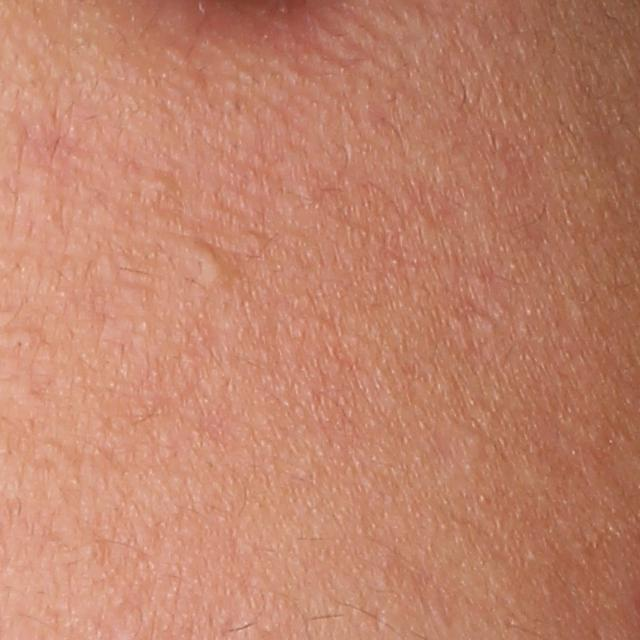comedo: (184, 240, 224, 284), (7, 329, 33, 354), (152, 174, 176, 196)
